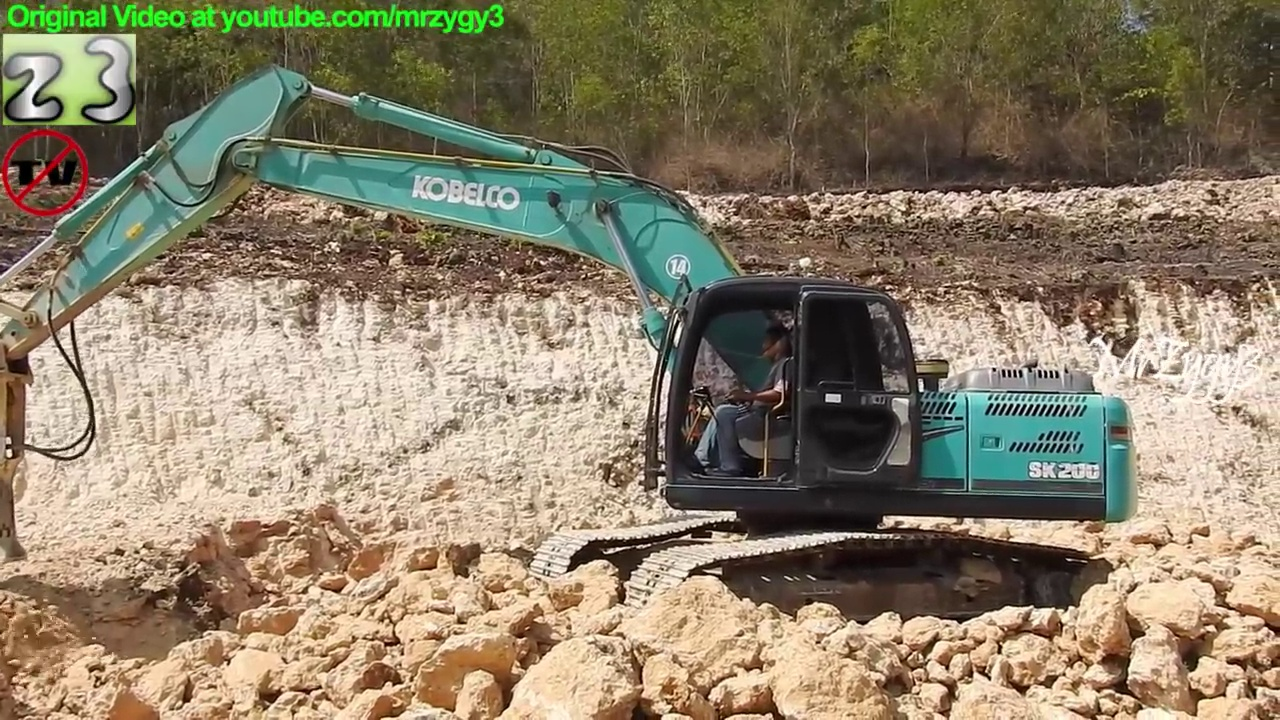excavator: (1, 55, 1144, 647)
